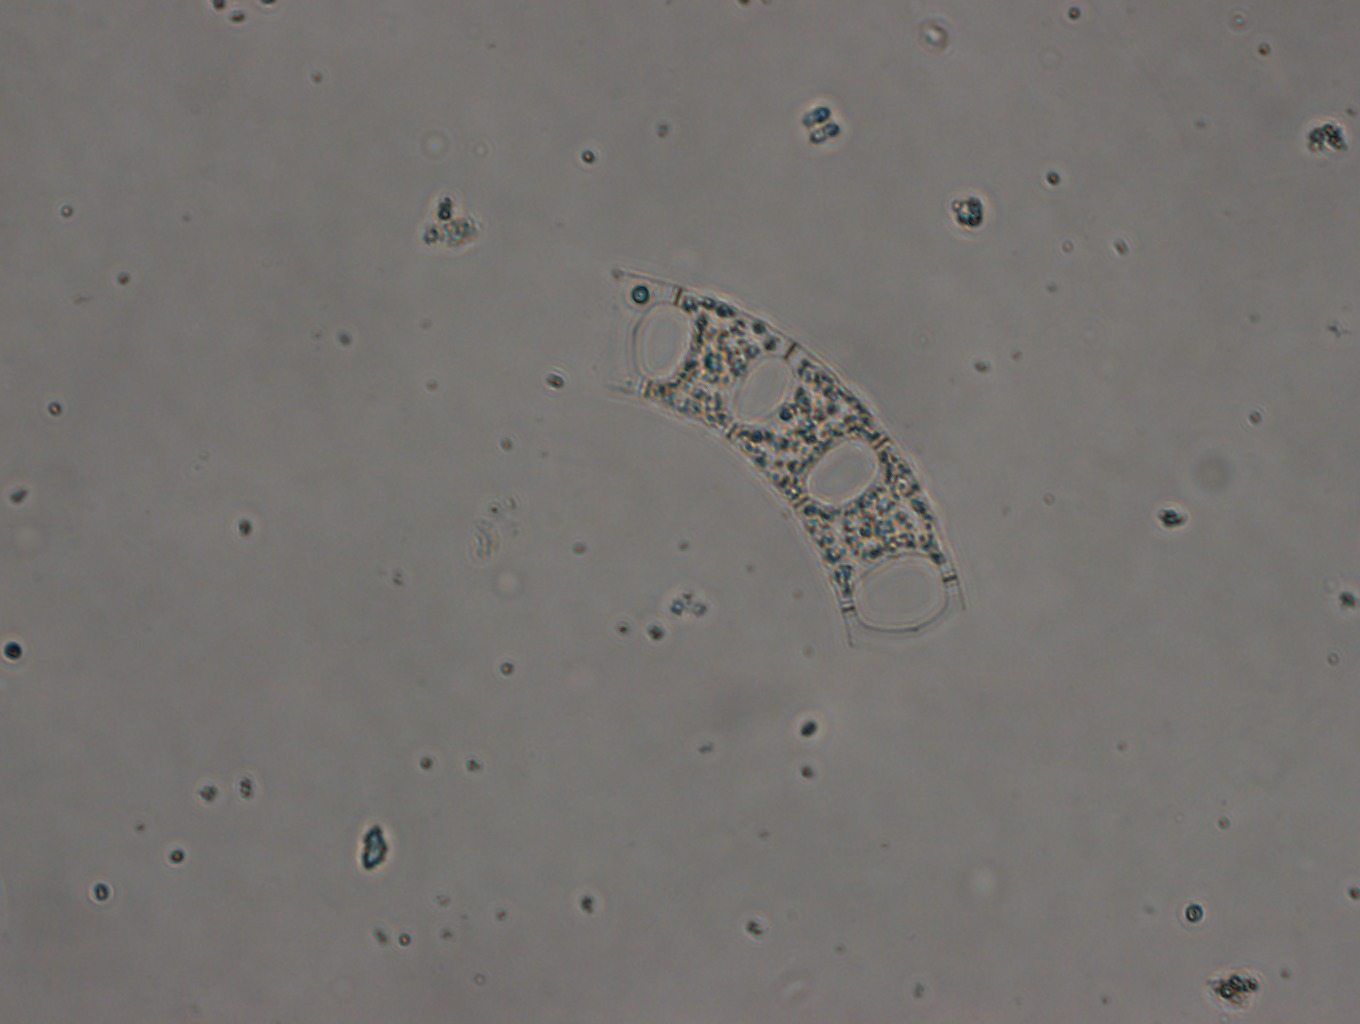eucampia: (593, 269, 972, 655)
